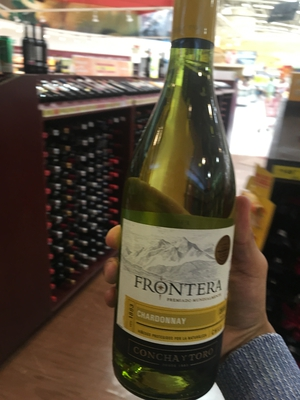frontera chardonnay: (122, 22, 235, 400)
